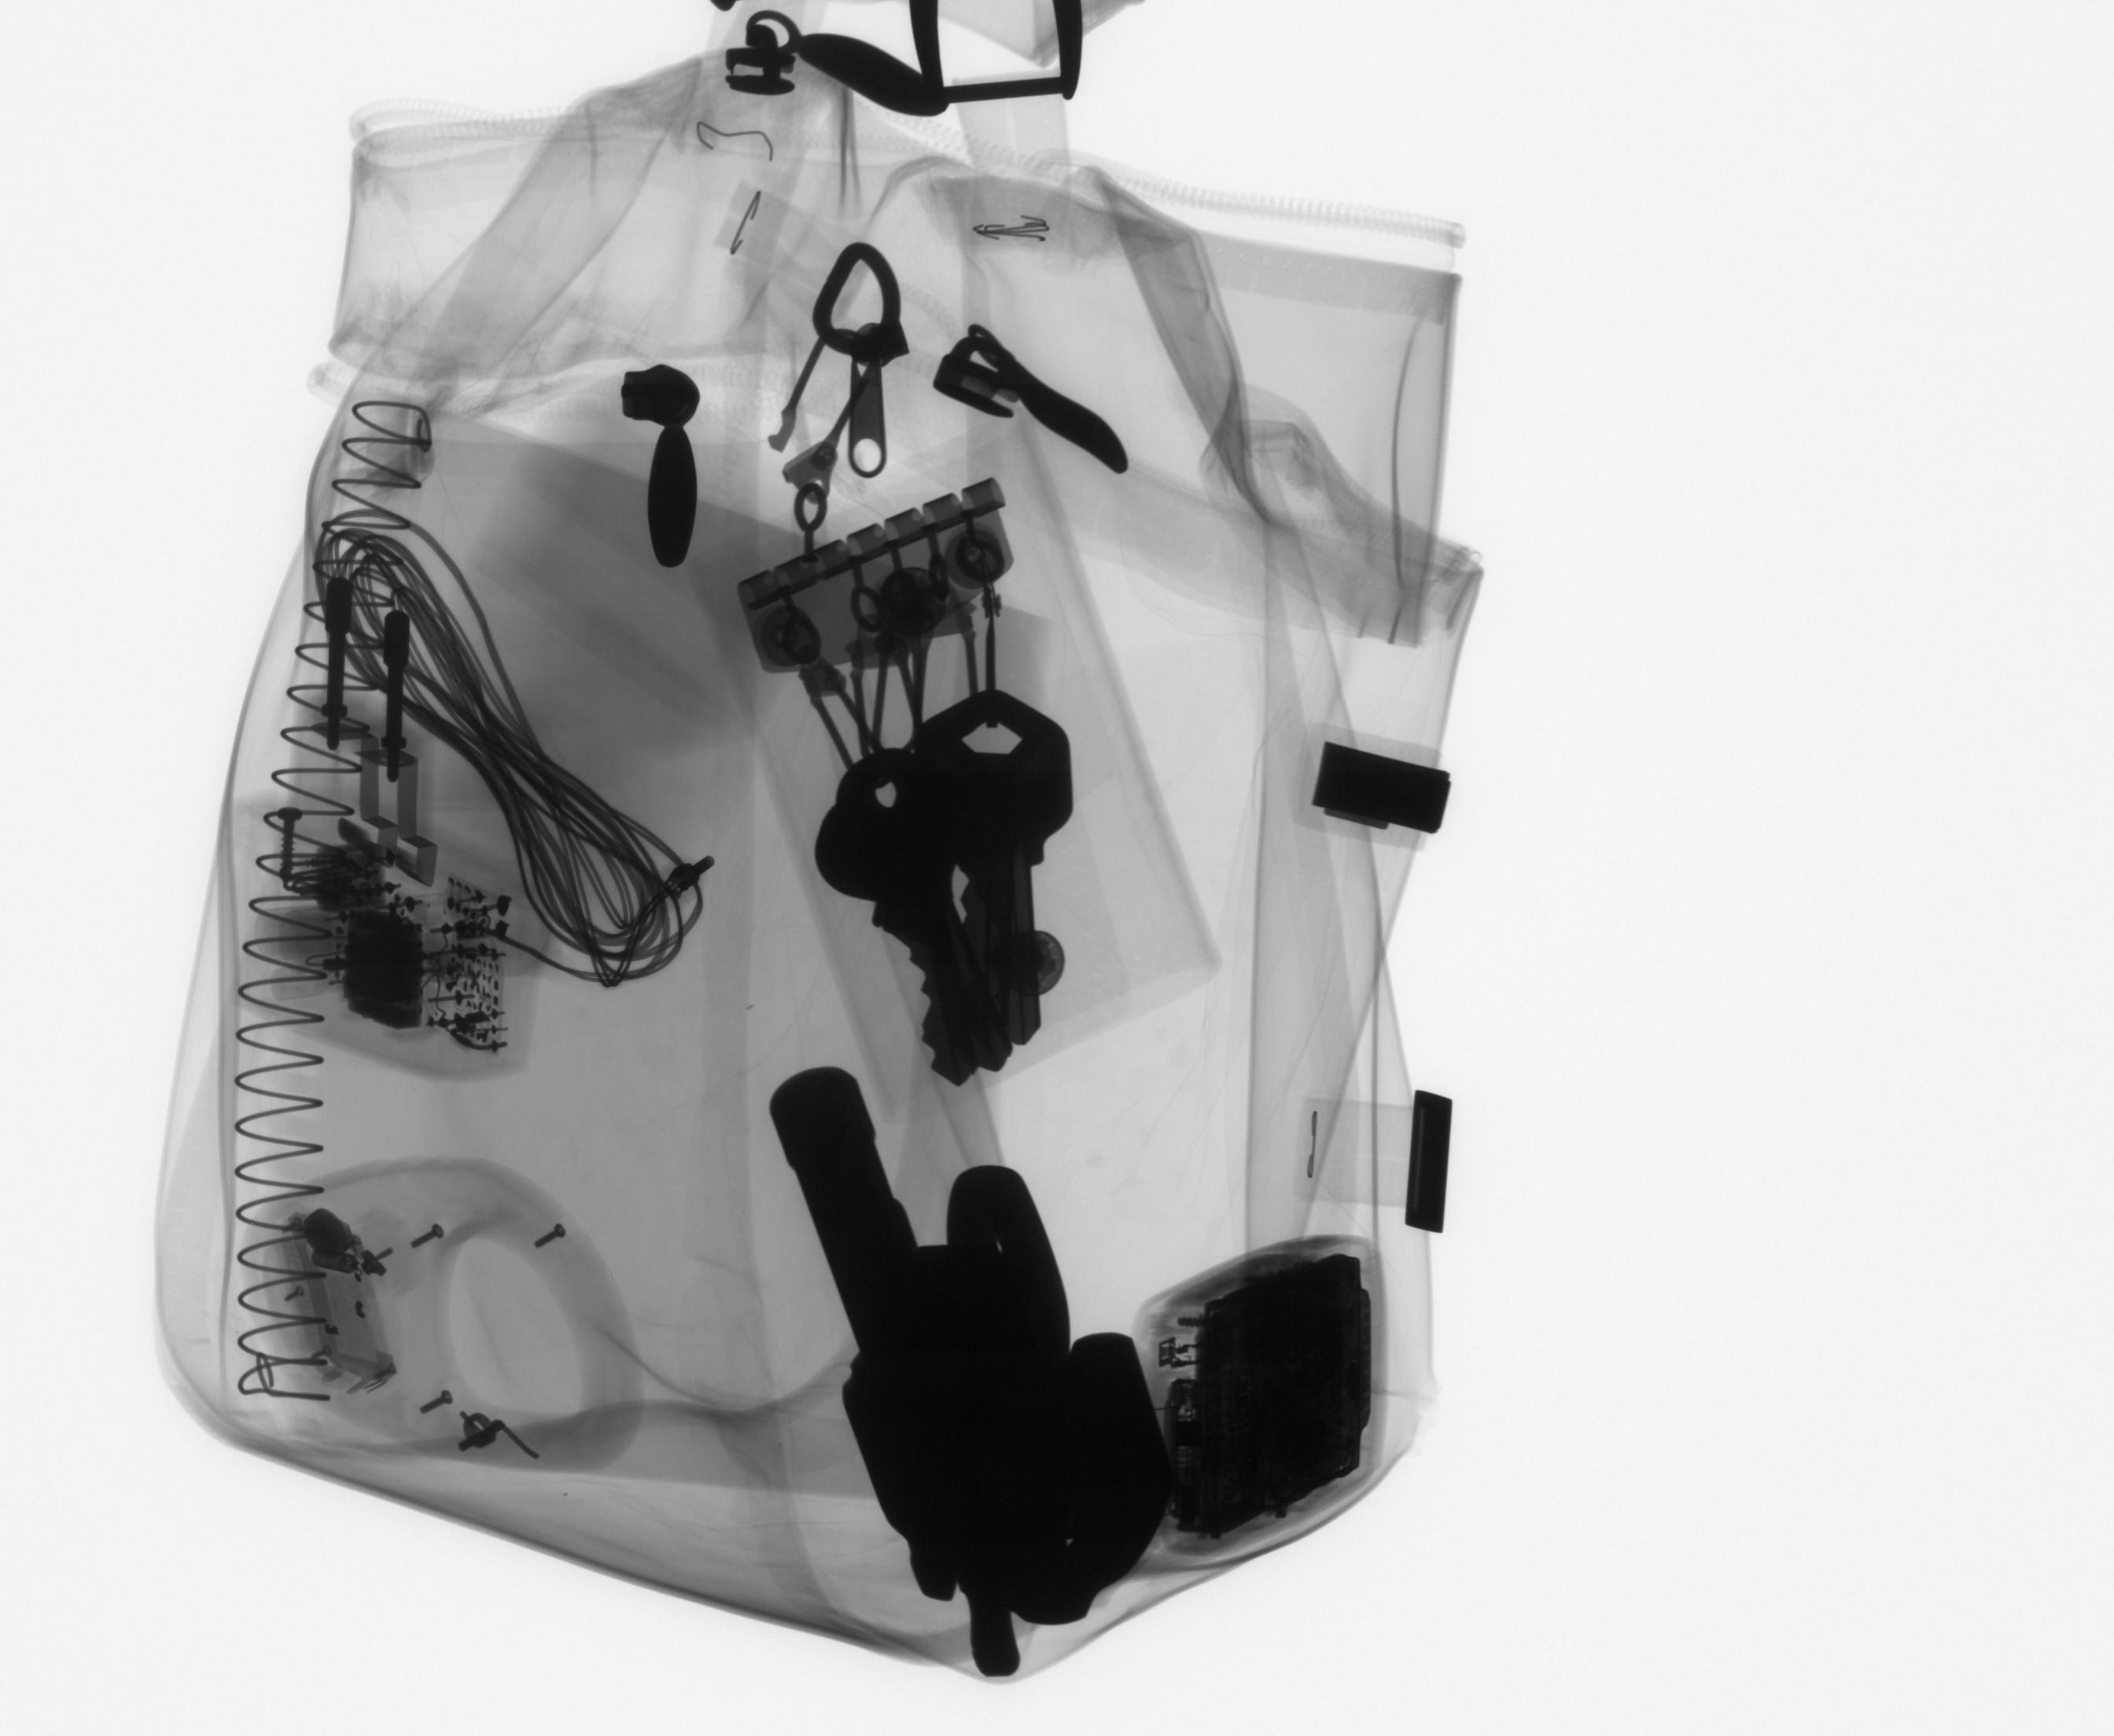Handgun: (759, 1050, 1203, 1687)
